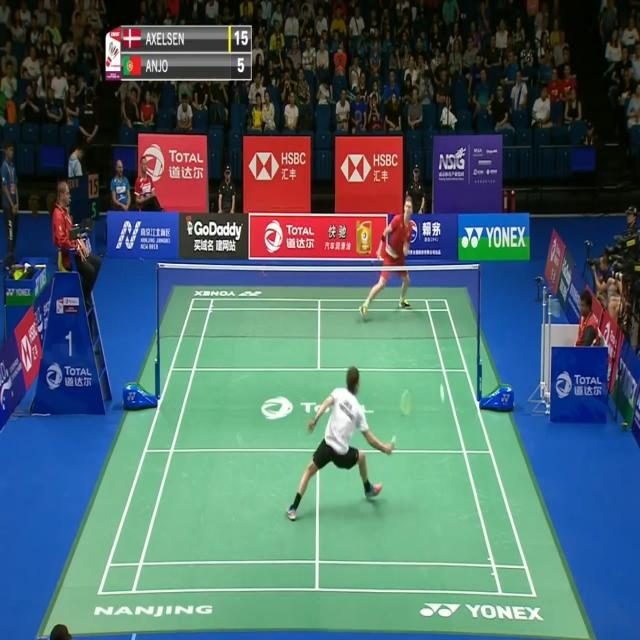Player1: (278, 362, 420, 522)
Player2: (357, 192, 420, 325)
